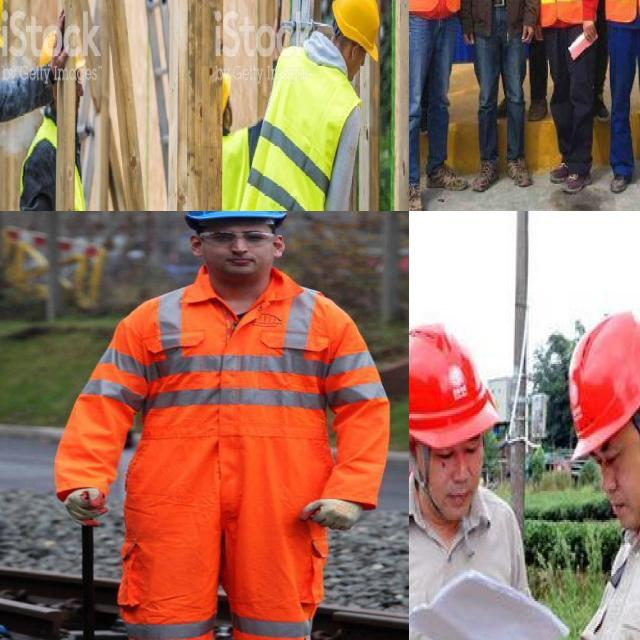No_Glasses: (587, 429, 633, 476), (431, 438, 486, 471)
face_nomask: (204, 230, 279, 279), (428, 464, 481, 522), (602, 454, 640, 533)
glasses: (193, 225, 277, 249)
hand_glove: (298, 496, 372, 542), (59, 482, 110, 526)
hand_noglove: (579, 14, 599, 49), (516, 22, 536, 50)
head_helmet: (409, 324, 500, 448), (570, 311, 640, 459), (331, 0, 387, 57), (178, 211, 290, 224), (40, 27, 74, 62), (220, 73, 232, 116)
person: (56, 211, 388, 640), (272, 0, 378, 211), (19, 29, 98, 211), (409, 0, 471, 211), (462, 0, 530, 189), (535, 0, 597, 182), (602, 0, 640, 186), (215, 74, 248, 211)
shoes: (467, 148, 505, 193), (424, 155, 468, 193), (556, 165, 597, 200), (603, 159, 638, 195), (504, 150, 533, 193), (409, 173, 424, 211)
vest: (73, 275, 388, 448), (271, 55, 338, 211), (21, 124, 94, 211), (534, 0, 598, 27), (221, 131, 241, 211)
